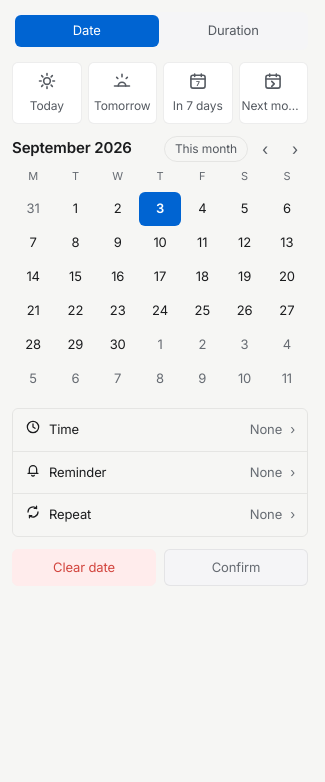
Test: the three rows open in place (§4.1) › keeps the calendar while 시간 is open
Check: the element that starts with "September 2026" is shown, box left=12, top=136, right=308, bottom=396
Click the button "Time None ›" at point(266, 429), box left=13, top=409, right=307, bottom=452
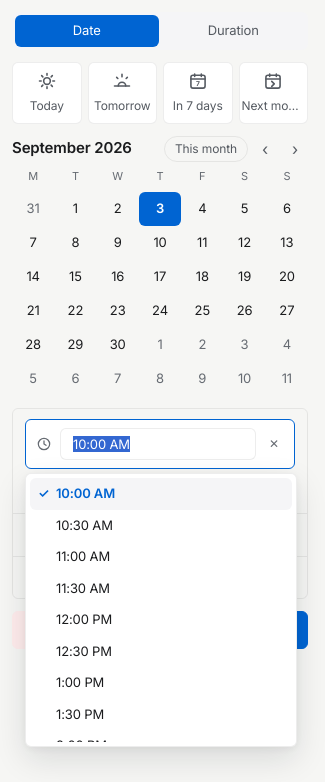
Check: the element that starts with "September 2026" is shown, box left=12, top=136, right=308, bottom=396
Check: the dropdown named "Starts" is shown, box left=60, top=428, right=256, bottom=460
